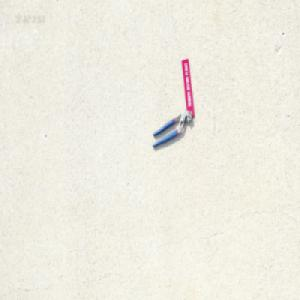Label: (181, 57, 195, 118)
Pliers: (151, 110, 192, 150)
